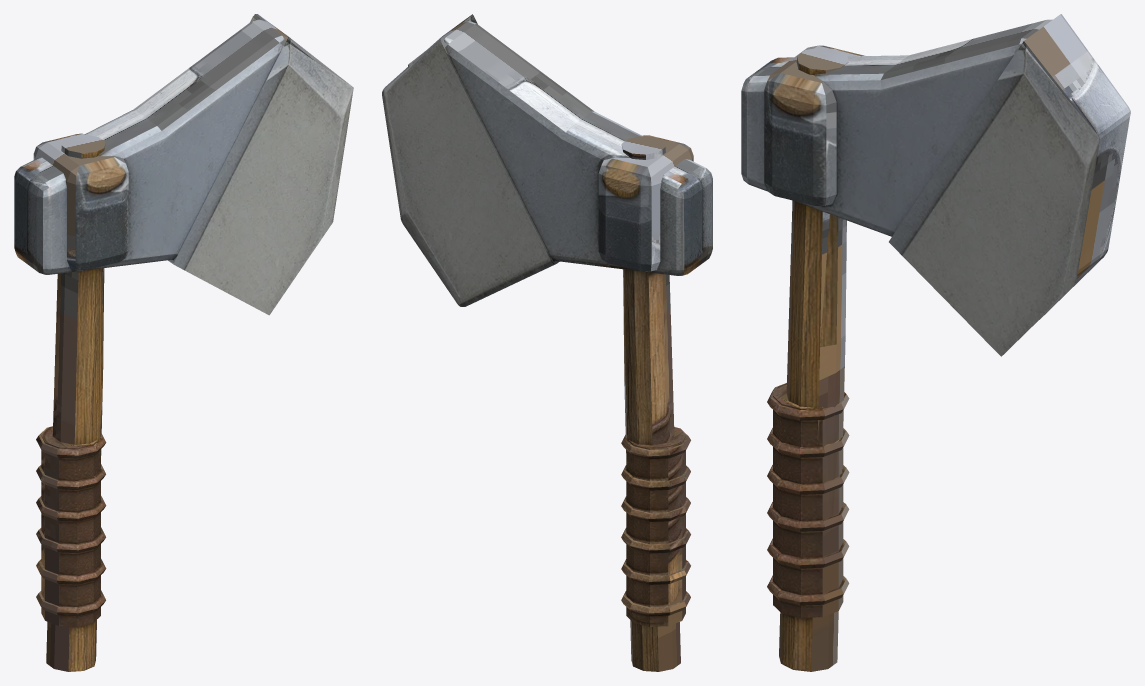
File: axe.glb
3 views of the same model, side by side, from view 1: azimuth 30°, elevation 25°; view 2: azimuth 150°, elevation 25°; view 3: azimuth 330°, elevation 25° (orthographic). The views are drawn at different scales.
Visible parts, largest first — view 1: Sharpened axe cutting edge.001, Forged crescent axe blade.001, Axe ash handle.001, Leather axe grip.001, Iron axe socket.001, Grip wrapping.011, Grip wrapping.009, Grip wrapping.006, Grip wrapping.007, Grip wrapping.008, Grip wrapping.010; view 2: Forged crescent axe blade.001, Sharpened axe cutting edge.001, Axe ash handle.001, Leather axe grip.001, Iron axe socket.001, Grip wrapping.011, Grip wrapping.007, Grip wrapping.008, Grip wrapping.010, Grip wrapping.009, Grip wrapping.006; view 3: Sharpened axe cutting edge.001, Forged crescent axe blade.001, Axe ash handle.001, Leather axe grip.001, Iron axe socket.001, Grip wrapping.007, Grip wrapping.006, Grip wrapping.008, Grip wrapping.009, Grip wrapping.011, Grip wrapping.010.
Part boxes in pixels (bbox=[...]): Sharpened axe cutting edge.001: bbox=[168, 14, 353, 315]; Forged crescent axe blade.001: bbox=[14, 19, 287, 274]; Axe ash handle.001: bbox=[46, 134, 105, 671]; Leather axe grip.001: bbox=[41, 426, 100, 626]; Iron axe socket.001: bbox=[33, 133, 128, 270]; Grip wrapping.011: bbox=[36, 427, 106, 458]; Grip wrapping.009: bbox=[36, 496, 106, 521]; Grip wrapping.006: bbox=[36, 590, 105, 616]; Grip wrapping.007: bbox=[36, 559, 106, 584]; Grip wrapping.008: bbox=[36, 527, 105, 553]; Grip wrapping.010: bbox=[36, 464, 105, 490]; Forged crescent axe blade.001: bbox=[440, 21, 712, 275]; Sharpened axe cutting edge.001: bbox=[382, 14, 559, 306]; Axe ash handle.001: bbox=[621, 136, 680, 671]; Leather axe grip.001: bbox=[626, 427, 685, 626]; Iron axe socket.001: bbox=[598, 135, 693, 271]; Grip wrapping.011: bbox=[621, 428, 690, 459]; Grip wrapping.007: bbox=[621, 559, 690, 584]; Grip wrapping.008: bbox=[621, 528, 690, 553]; Grip wrapping.010: bbox=[621, 465, 690, 490]; Grip wrapping.009: bbox=[621, 496, 690, 521]; Grip wrapping.006: bbox=[621, 591, 690, 616]; Sharpened axe cutting edge.001: bbox=[889, 14, 1130, 356]; Forged crescent axe blade.001: bbox=[741, 19, 1112, 264]; Axe ash handle.001: bbox=[779, 47, 848, 671]; Leather axe grip.001: bbox=[773, 383, 843, 617]; Iron axe socket.001: bbox=[764, 45, 864, 206]; Grip wrapping.007: bbox=[767, 538, 849, 568]; Grip wrapping.006: bbox=[767, 575, 849, 605]; Grip wrapping.008: bbox=[767, 502, 849, 531]; Grip wrapping.009: bbox=[767, 465, 849, 494]; Grip wrapping.011: bbox=[767, 383, 849, 420]; Grip wrapping.010: bbox=[767, 428, 849, 457].
Bounding box in the file's own units: 0.6196 × 1.12 × 0.16.
Materials: 4 (4 with a texture image).
